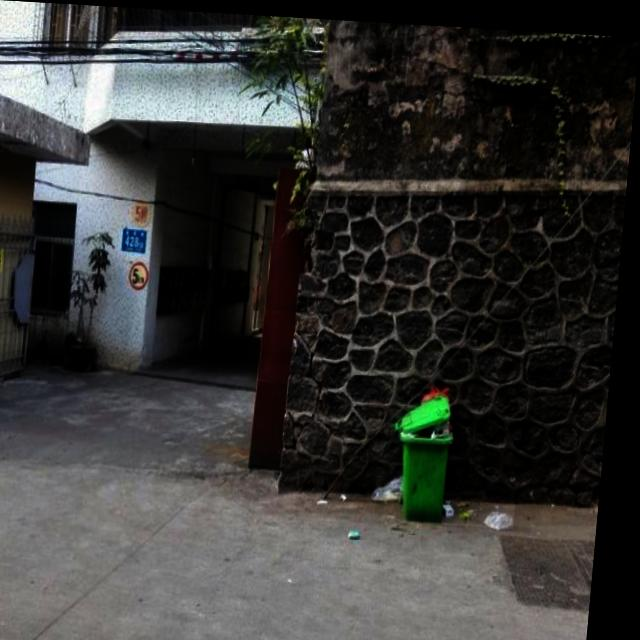garbage: (451, 491, 525, 522), (383, 470, 413, 497)
overflow: (394, 377, 464, 515)
